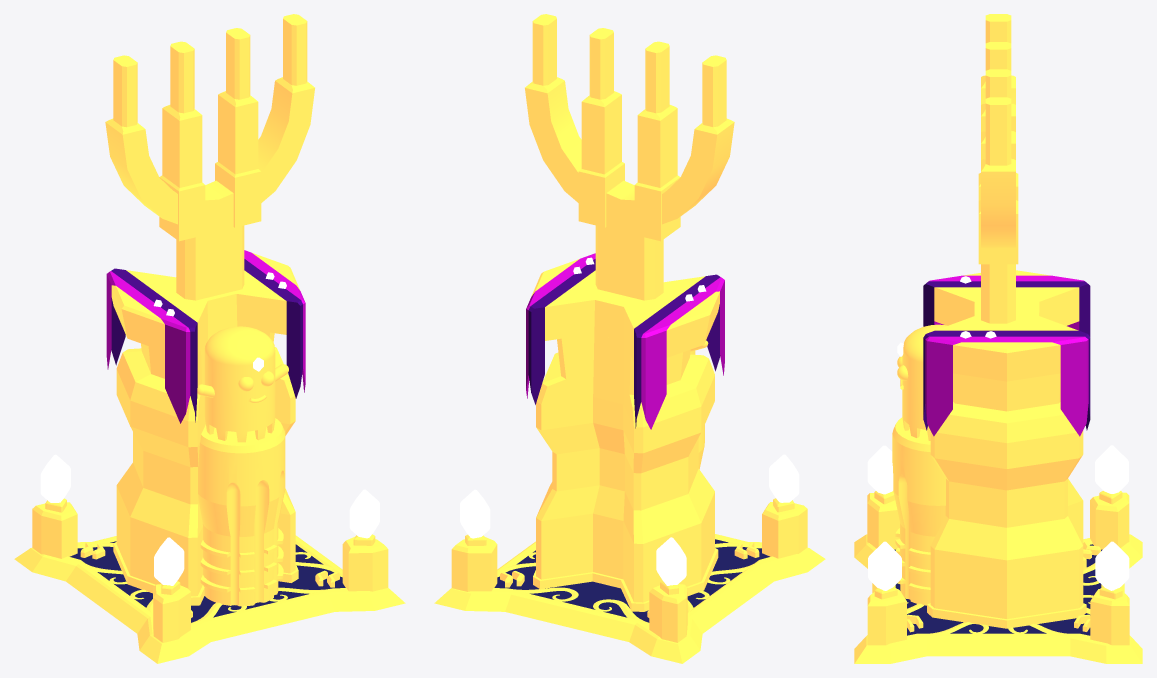
File: 8_aaltar_LE_8.fbx
The picture shows the model from 3 angles, left to right: view 1: azimuth 30°, elevation 25°; view 2: azimuth 150°, elevation 25°; view 3: azimuth 270°, elevation 25°; orthographic projection.
Visible parts, largest first — view 1: aaltar_LE_8; view 2: aaltar_LE_8; view 3: aaltar_LE_8.
Boxes of the visible parts, box(x1,y1,x2,y2) form: aaltar_LE_8: box(14, 14, 405, 663); aaltar_LE_8: box(434, 14, 825, 663); aaltar_LE_8: box(854, 14, 1142, 663).
Bounding box in the file's own units: 78.77 × 164 × 78.73.
